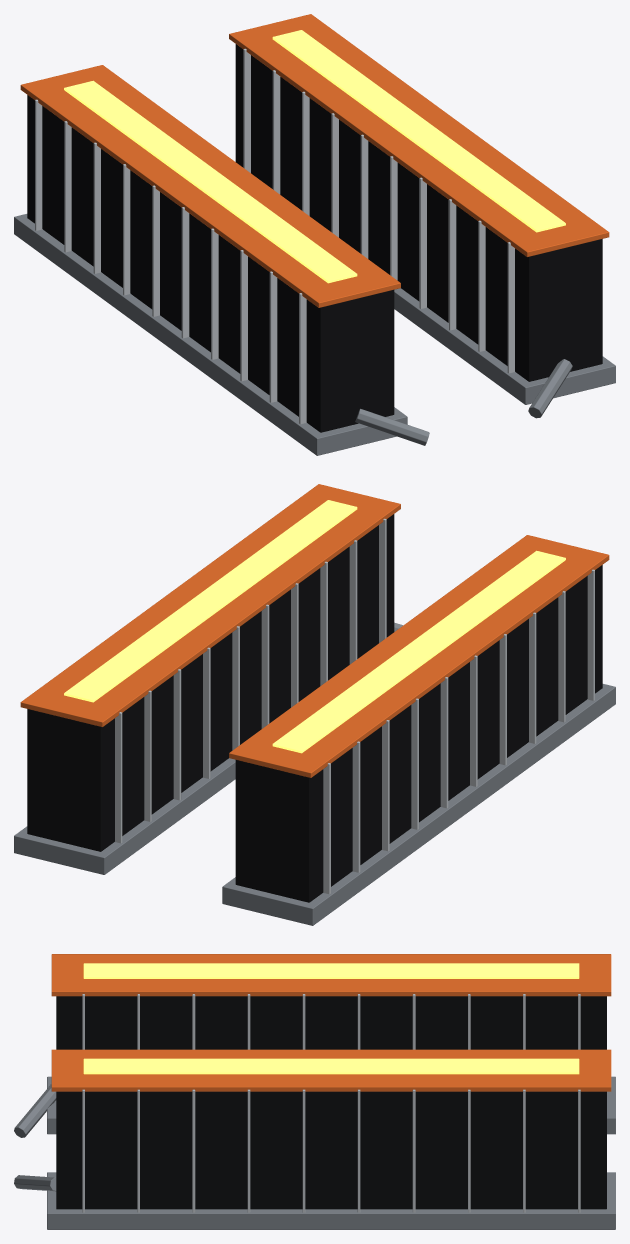
Rendered from bastion_cooling_grid.fbx.
3 renders of one model, top to bottom at view 1: azimuth 30°, elevation 25°; view 2: azimuth 150°, elevation 25°; view 3: azimuth 270°, elevation 25°, orthographic. The views are drawn at different scales.
Visible parts, largest first — view 1: Cooling_Grid; view 2: Cooling_Grid; view 3: Cooling_Grid.
Boxes of the visible parts, x1,y1,x2,y2 form: Cooling_Grid: (14,14,615,455); Cooling_Grid: (14,484,615,925); Cooling_Grid: (14,954,615,1229).
Bounding box in the file's own units: 71.2 × 35.35 × 132.
